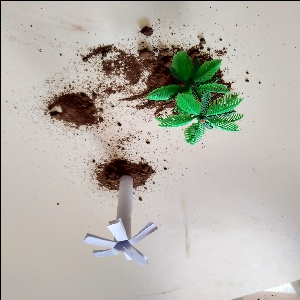plant: (144, 55, 240, 137)
weed: (86, 174, 156, 266)
